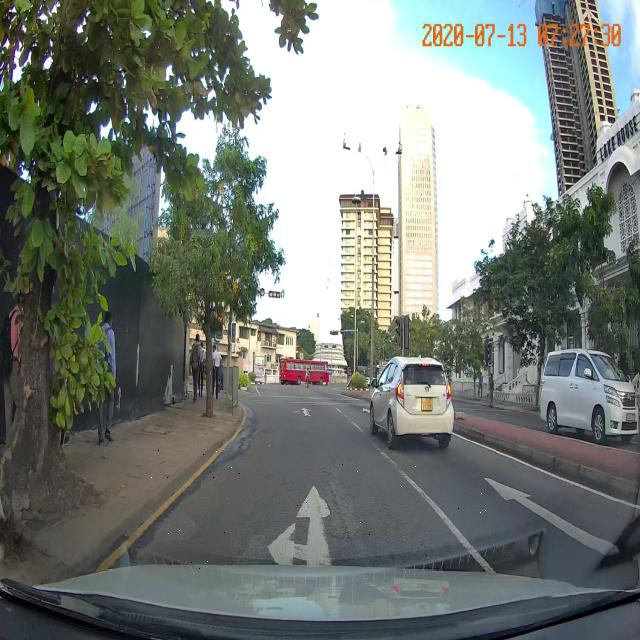forward_lft: (101, 441, 496, 570)
